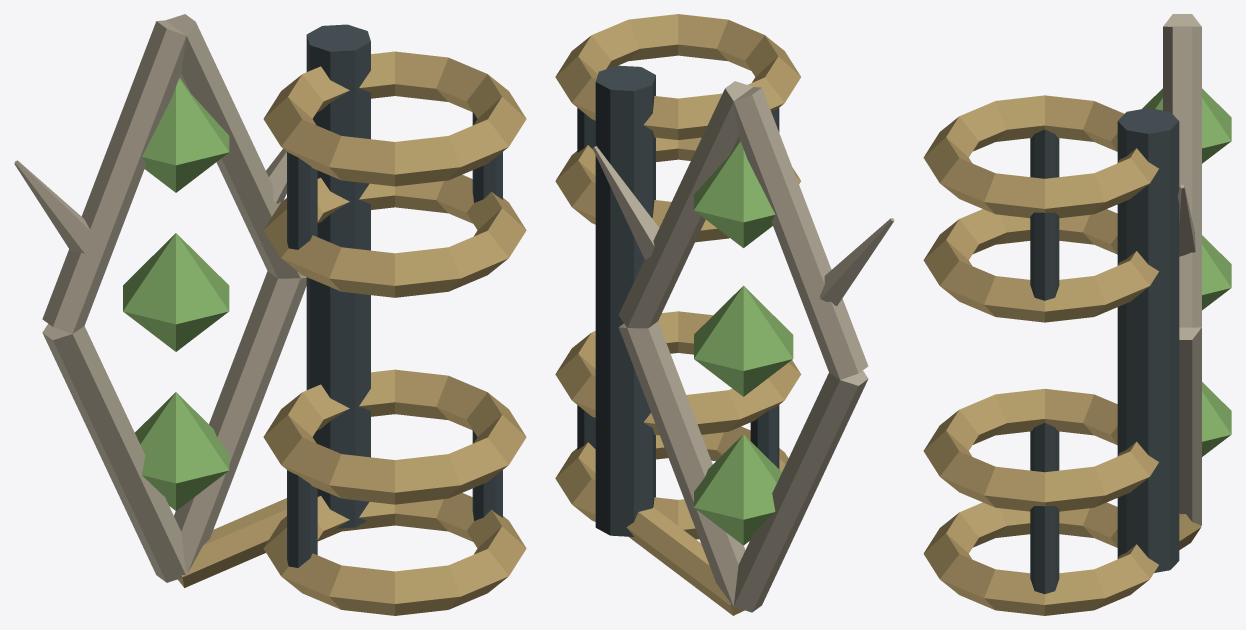
Rendered from Arsenal_ThistleAntidote.fbx.
The picture shows the model from 3 angles, left to right: view 1: azimuth 30°, elevation 25°; view 2: azimuth 150°, elevation 25°; view 3: azimuth 270°, elevation 25°; orthographic projection. The views are drawn at different scales.
Parts seen in each view (by area): view 1: Arsenal_ThistleAntidote; view 2: Arsenal_ThistleAntidote; view 3: Arsenal_ThistleAntidote.
Part boxes in pixels (<box>): Arsenal_ThistleAntidote: <box>14,14,526,615</box>; Arsenal_ThistleAntidote: <box>555,14,894,615</box>; Arsenal_ThistleAntidote: <box>923,14,1231,615</box>.
Size of the model in its own units: 0.2761 by 0.3541 by 0.1903.
